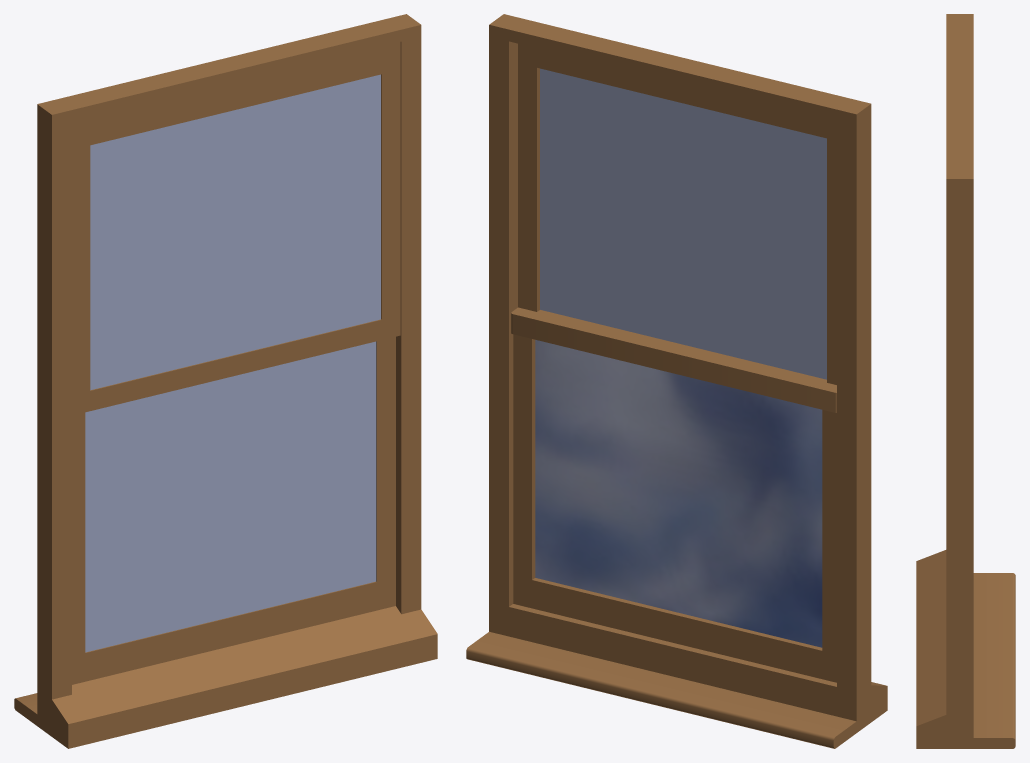
The model's file is window.dae.
3 views of the same model, side by side, from view 1: azimuth 30°, elevation 25°; view 2: azimuth 150°, elevation 25°; view 3: azimuth 270°, elevation 25° (orthographic). The views are drawn at different scales.
Parts seen in each view (by area): view 1: window; view 2: window; view 3: window.
Boxes of the visible parts, left/top/right/bottom form: window: left=14, top=14, right=437, bottom=748; window: left=466, top=14, right=887, bottom=748; window: left=916, top=14, right=1015, bottom=748.
Size of the model in its own units: 1.62 by 0.4111 by 2.6.
Materials: 2 (2 with a texture image).
